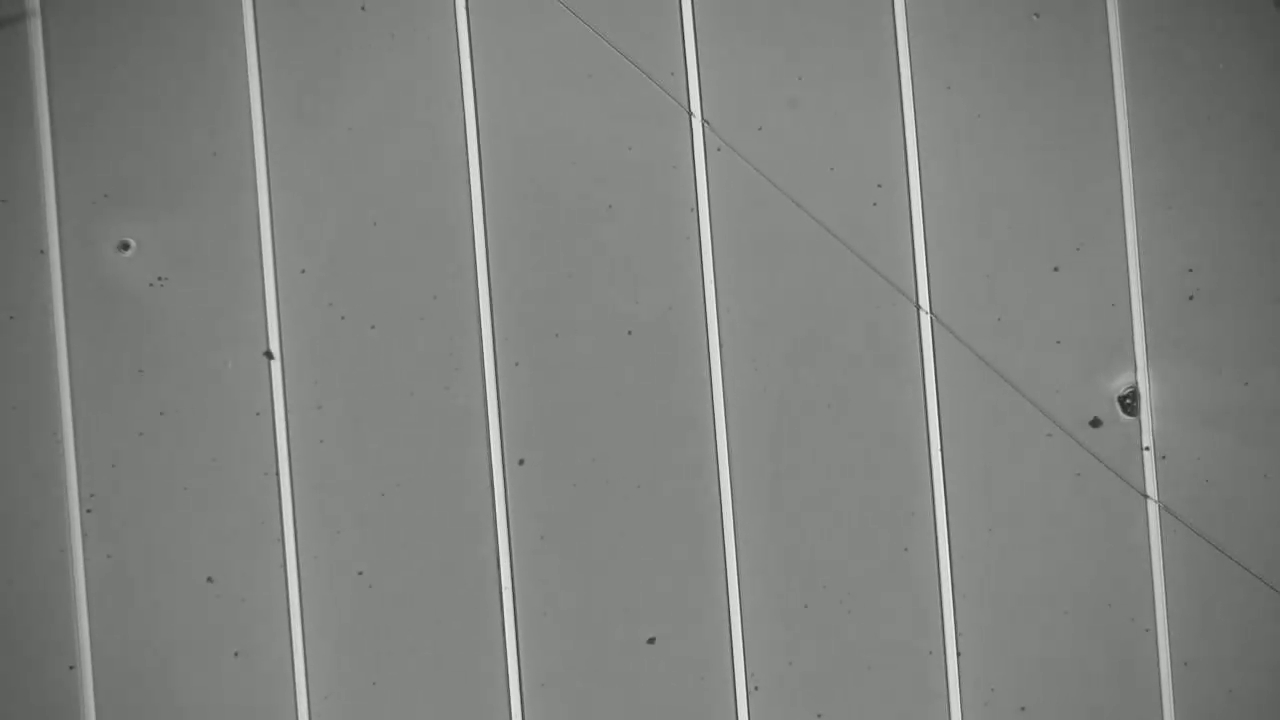scratch: (560, 5, 1280, 600)
stains_enbedded: (1110, 366, 1168, 432)
